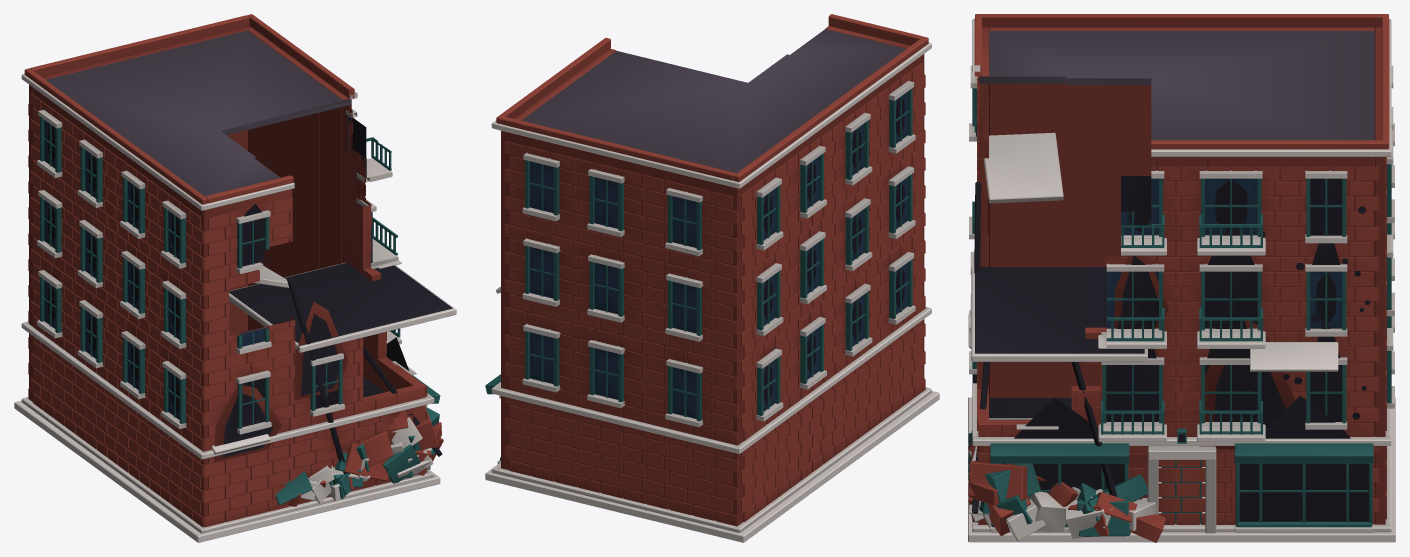
File: bld.apartment-block-a.w5.glb
The picture shows the model from 3 angles, left to right: view 1: azimuth 30°, elevation 25°; view 2: azimuth 150°, elevation 25°; view 3: azimuth 270°, elevation 25°; orthographic projection. The views are drawn at different scales.
Parts seen in each view (by area): view 1: body, roof; view 2: body, roof; view 3: body, roof, door_front.
Part boxes in pixels (x1=…): body: x1=14, y1=14, x2=456, y2=542; roof: x1=45, y1=30, x2=351, y2=196; body: x1=485, y1=14, x2=939, y2=542; roof: x1=521, y1=29, x2=906, y2=173; body: x1=968, y1=14, x2=1395, y2=542; roof: x1=979, y1=28, x2=1374, y2=158; door_front: x1=1161, y1=460, x2=1202, y2=523.
Bounding box in the file's own units: 10.3 × 12.85 × 12.6.
